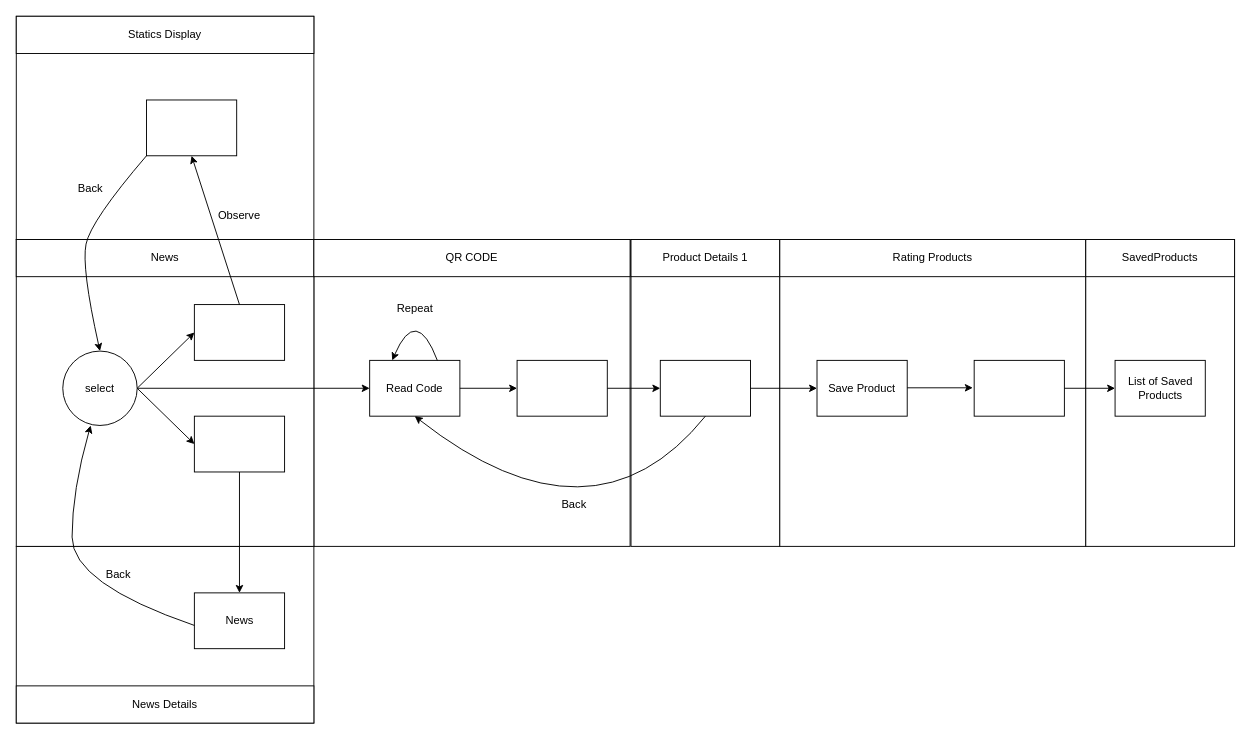
This 1251x739 diagram has some shape labels left out. Each missing label, with the box of its shape:
Feedback: (659, 359, 751, 416)
More Details: (516, 359, 607, 416)
OK: (973, 359, 1064, 416)
Read More: (193, 415, 285, 472)
Statics 1& 2: (146, 99, 237, 156)
Stattics: (193, 304, 285, 360)
